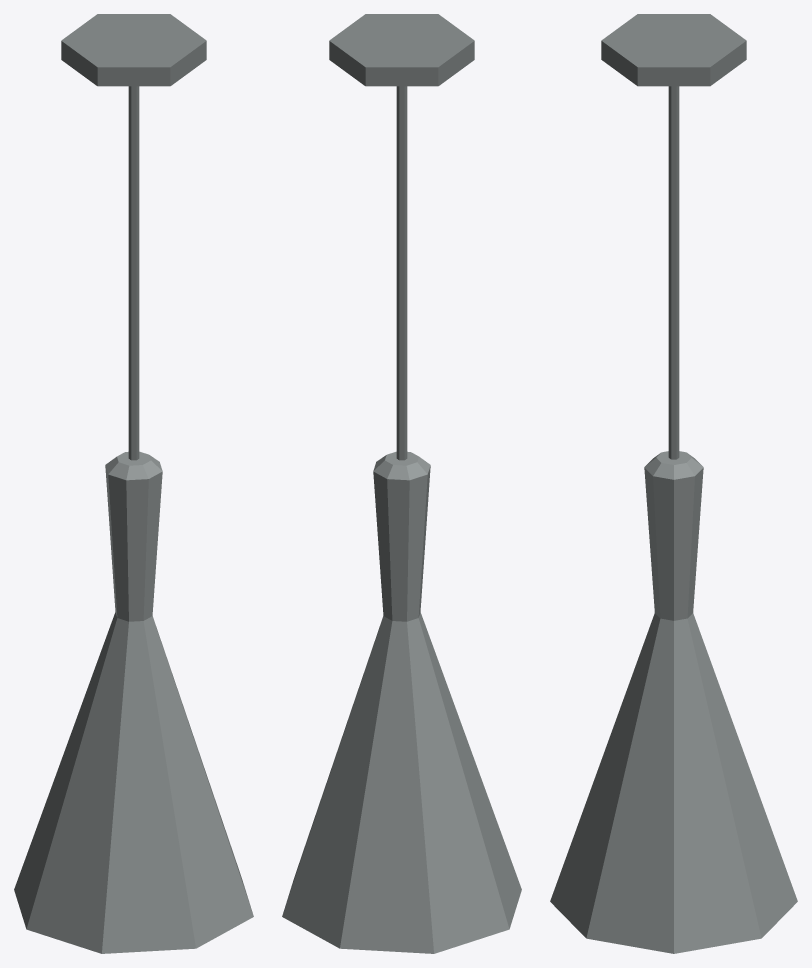
File: SM_Props_Interior_Shop_Light_CeilingLight_05.fbx
3 renders of one model, left to right at view 1: azimuth 30°, elevation 25°; view 2: azimuth 150°, elevation 25°; view 3: azimuth 270°, elevation 25°, orthographic.
Parts seen in each view (by area): view 1: SM_Props_Interior_Shop_Light_CeilingLight_05; view 2: SM_Props_Interior_Shop_Light_CeilingLight_05; view 3: SM_Props_Interior_Shop_Light_CeilingLight_05.
Part boxes in pixels (x1=…): SM_Props_Interior_Shop_Light_CeilingLight_05: x1=14, y1=14, x2=253, y2=953; SM_Props_Interior_Shop_Light_CeilingLight_05: x1=282, y1=14, x2=521, y2=953; SM_Props_Interior_Shop_Light_CeilingLight_05: x1=550, y1=14, x2=797, y2=953.
Size of the model in its own units: 23.49 by 90 by 23.49.
